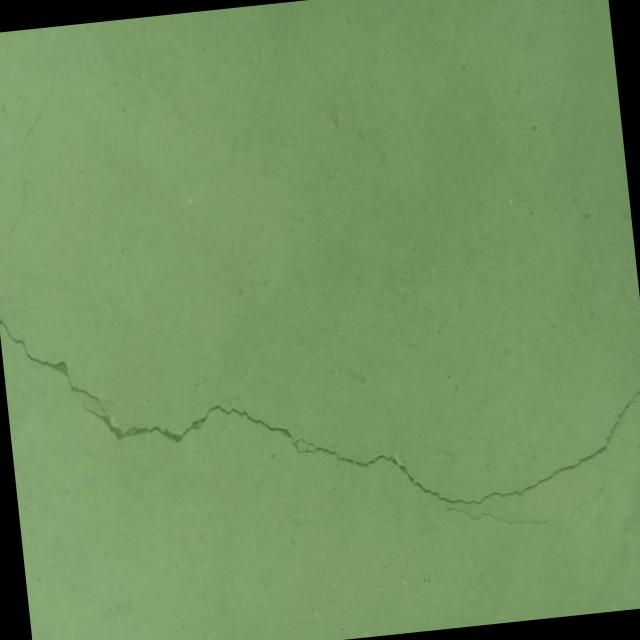crack: (0, 252, 640, 579), (550, 474, 615, 530)
